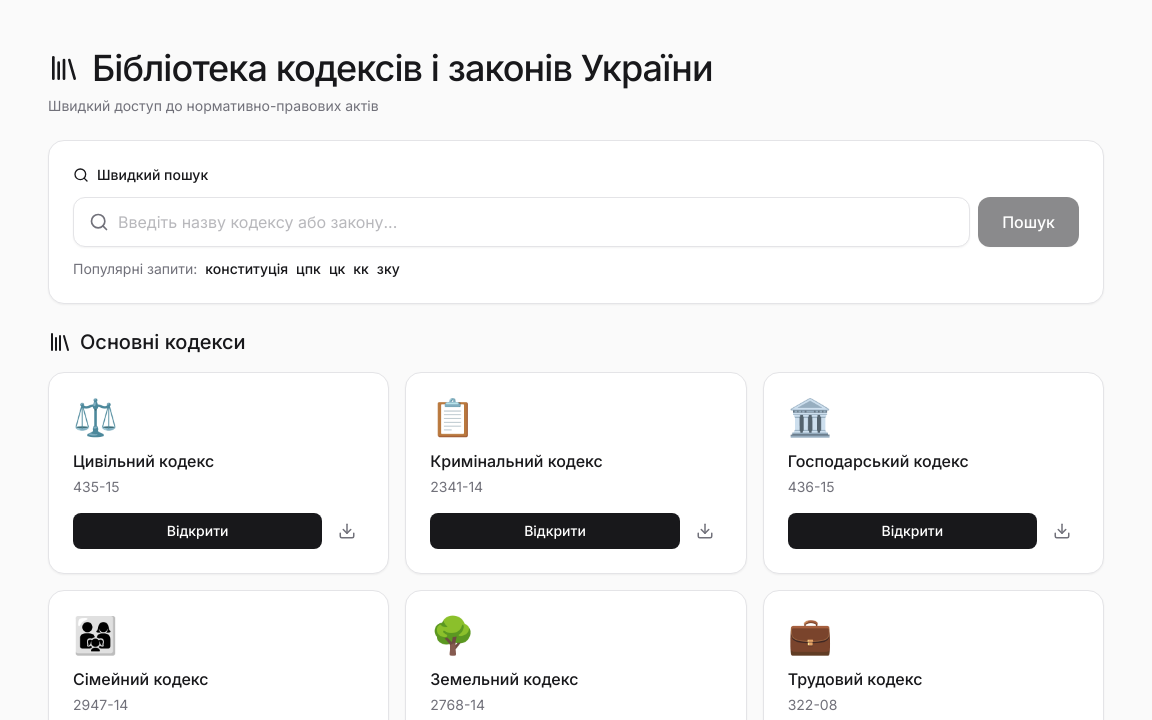
Test: LegalCodesLibraryPage › Open code › opens code viewer when "Відкрити" is clicked on main code
Click the button "Відкрити" below "435-15".
click(198, 531)  # box [73,513,322,549]
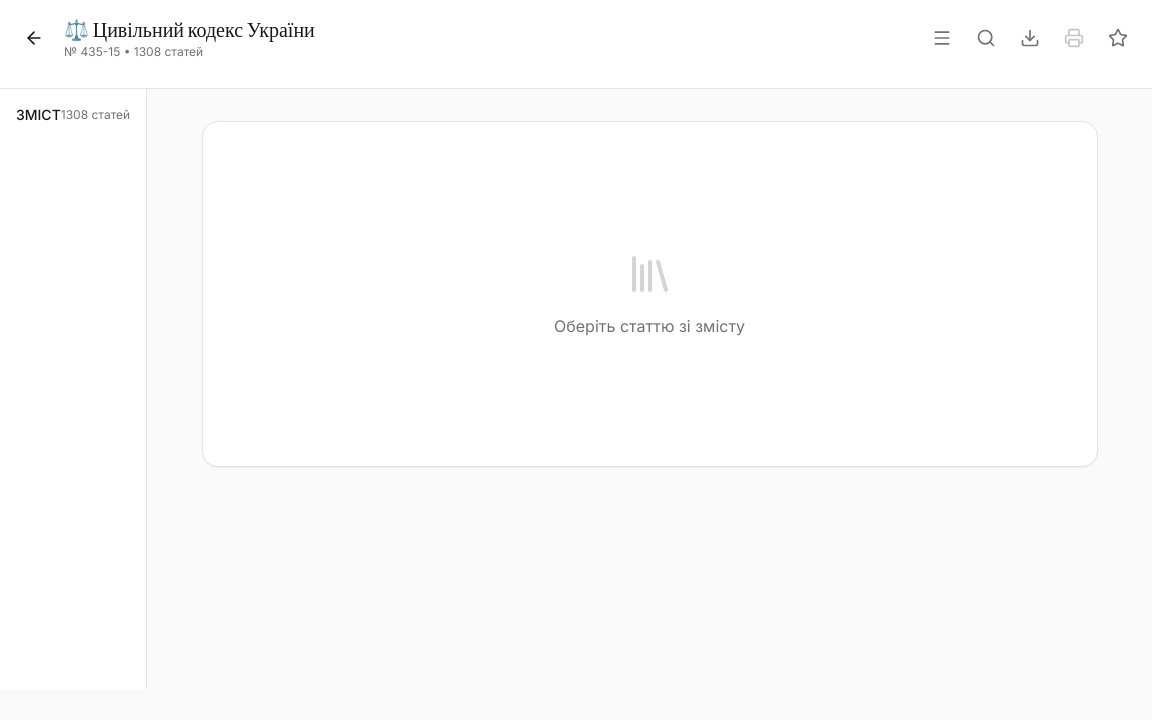
Expected: the heading "⚖️ Цивільний кодекс України" is shown, [64,16,315,44]
